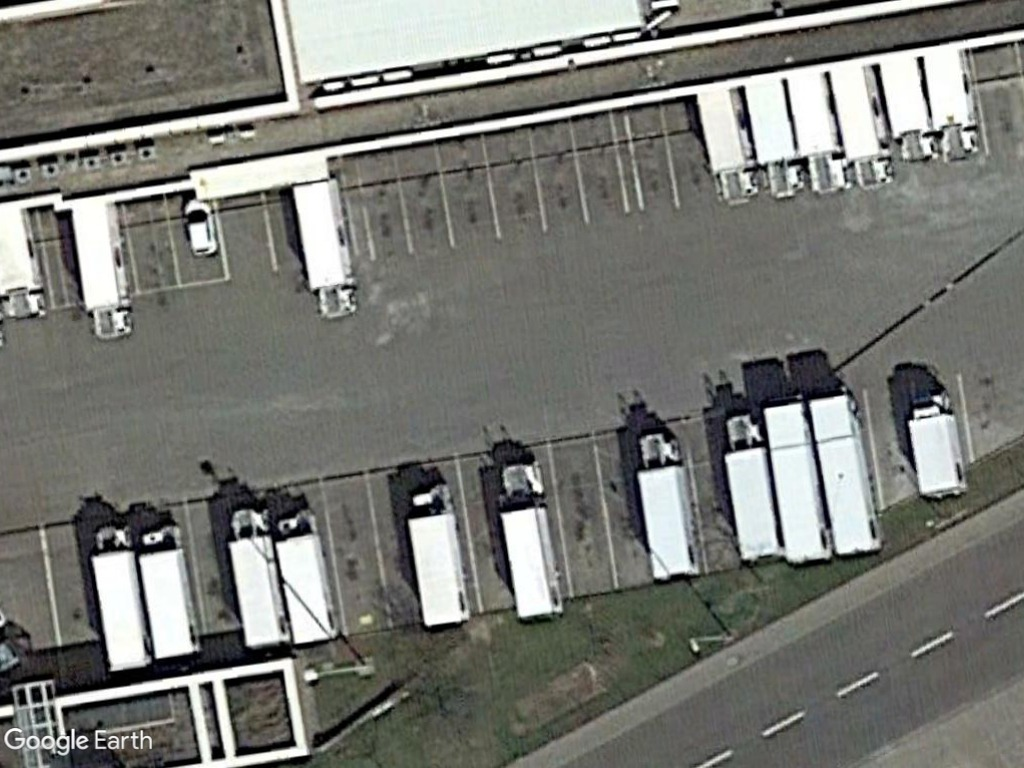car: (179, 195, 220, 257)
longvehicle: (806, 387, 892, 562), (758, 397, 838, 569)
truck: (492, 459, 567, 625), (392, 480, 473, 631), (288, 175, 366, 324), (629, 427, 703, 581), (87, 520, 153, 675), (227, 504, 294, 652), (719, 411, 782, 568), (896, 380, 972, 505), (69, 203, 137, 341), (274, 508, 341, 648), (828, 69, 901, 192), (739, 79, 810, 203), (139, 520, 201, 659), (784, 76, 852, 194), (696, 89, 758, 206), (923, 51, 985, 163), (874, 56, 938, 162)
